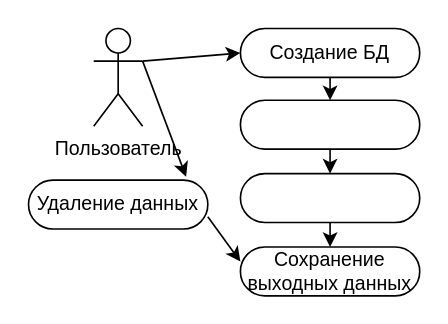
The diagram is 448 pixels wide and 324 high, and some of its shapes have lost their labels. The centre of each missing label's shape, as x and y in pixels:
"Добавление данных в БД" goes at point 329,197.
"Заполнение полей" goes at point 329,124.
